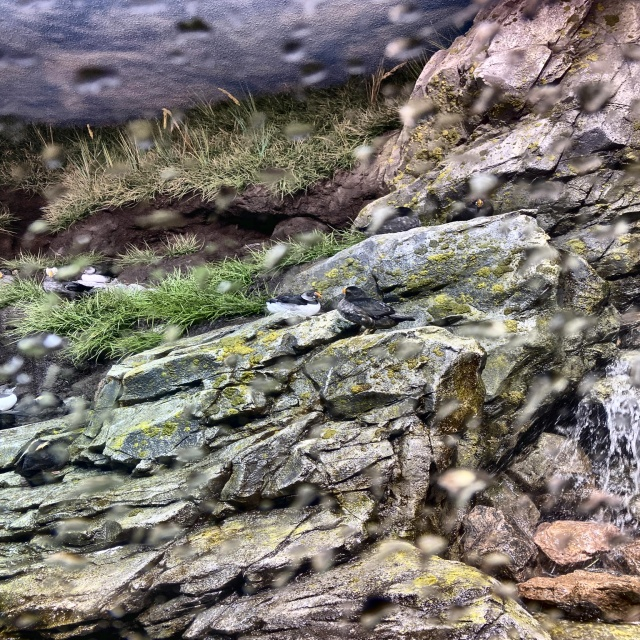puffin: (338, 286, 414, 333), (15, 441, 69, 475), (357, 207, 420, 235), (42, 266, 97, 297), (266, 290, 322, 315), (17, 391, 60, 418), (447, 196, 493, 221), (0, 383, 18, 411), (82, 266, 110, 283), (0, 268, 18, 287)
